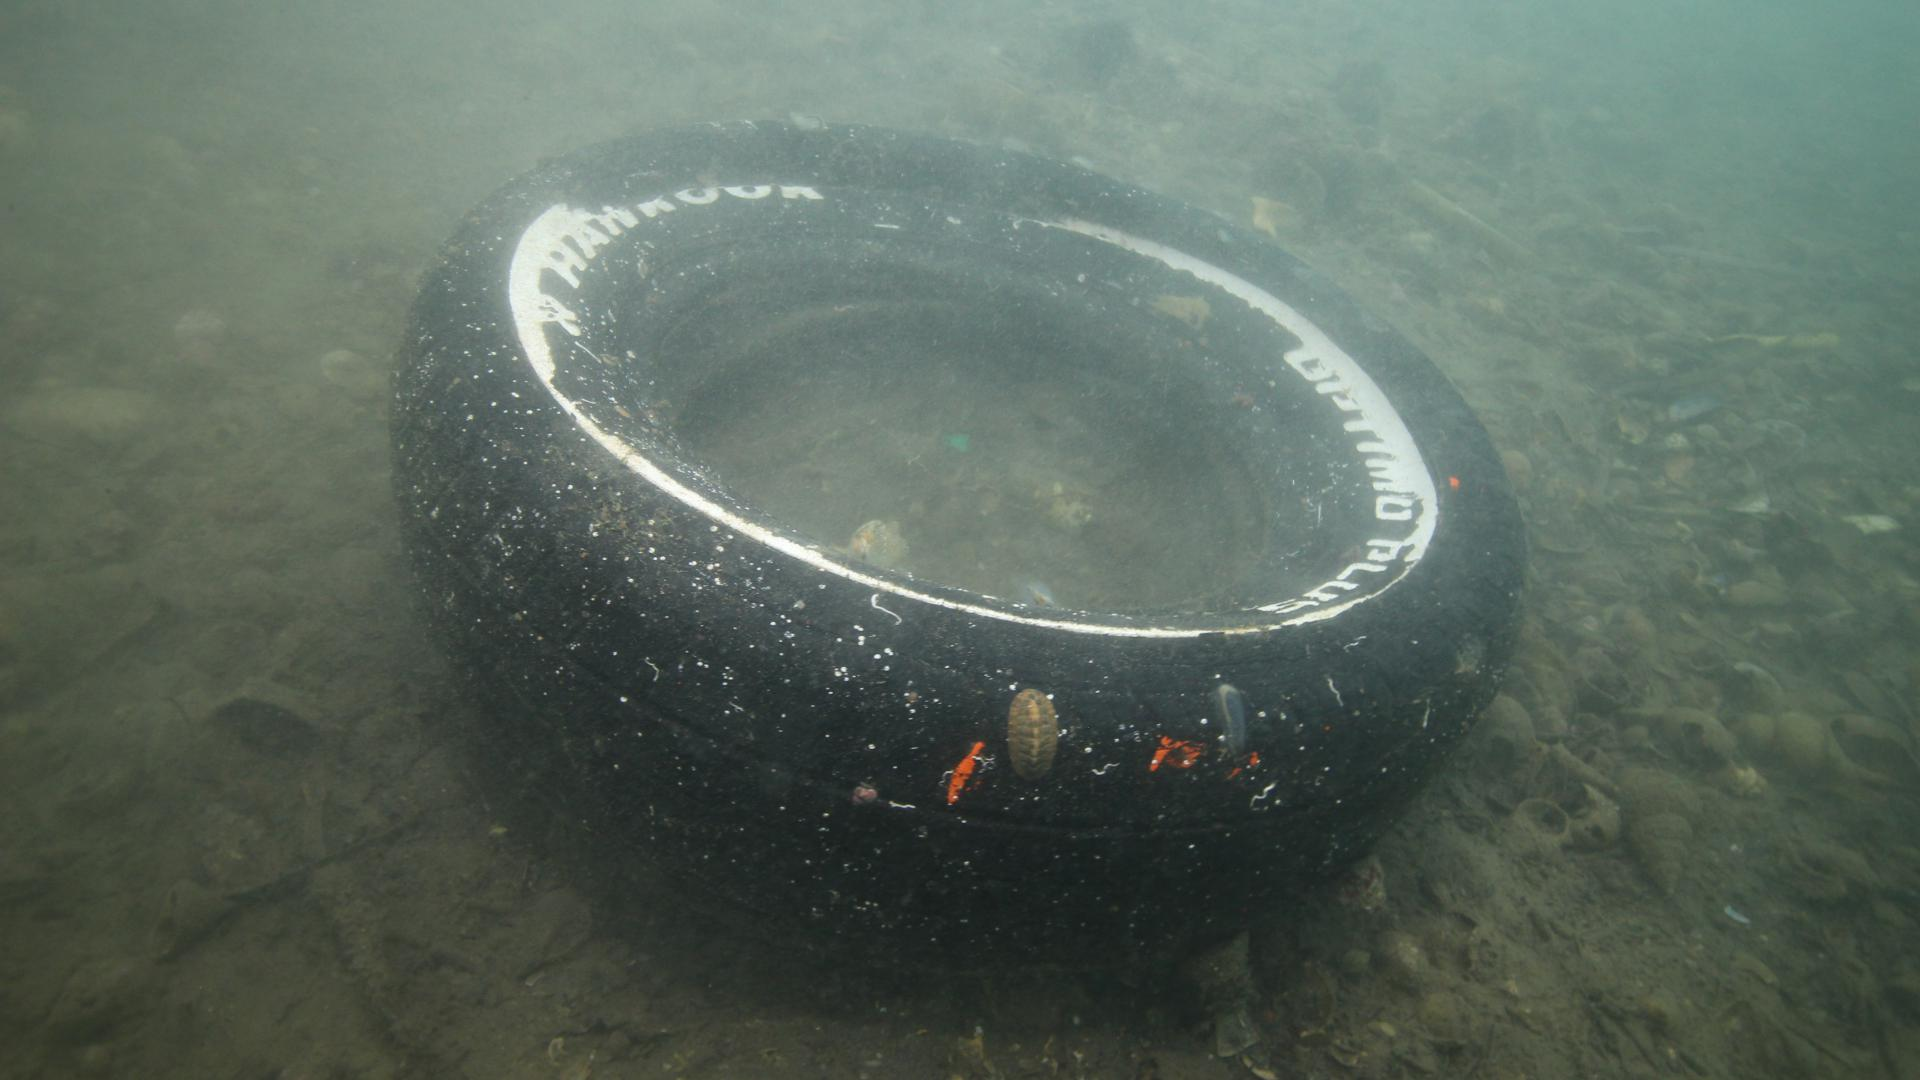tire: (385, 116, 1523, 975)
